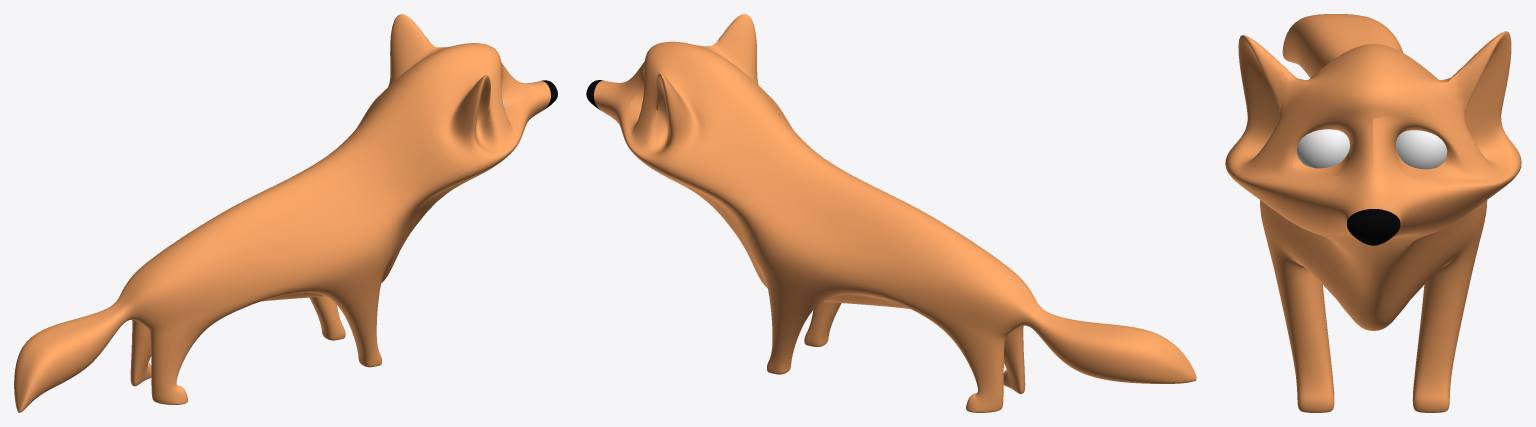
File: fox.obj
3 renders of one model, left to right at view 1: azimuth 30°, elevation 25°; view 2: azimuth 150°, elevation 25°; view 3: azimuth 270°, elevation 25°, orthographic. The views are drawn at different scales.
Parts seen in each view (by area): view 1: Subdivision_Surface; view 2: Subdivision_Surface; view 3: Subdivision_Surface, eye, eye.2.
Part boxes in pixels (left/top/right/bottom): Subdivision_Surface: left=14, top=14, right=557, bottom=412; Subdivision_Surface: left=586, top=14, right=1196, bottom=412; Subdivision_Surface: left=1225, top=14, right=1521, bottom=412; eye: left=1296, top=129, right=1349, bottom=168; eye.2: left=1395, top=130, right=1447, bottom=169.
Size of the model in its own units: 843 by 405 by 244.
